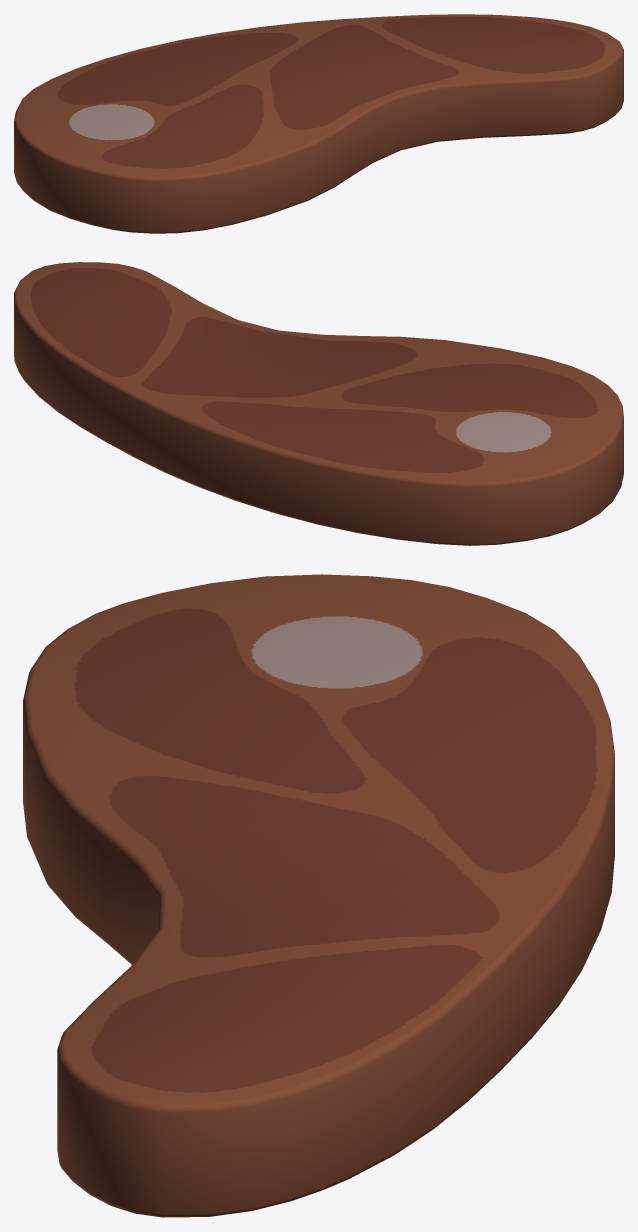
File: Meat_game_ready (1).fbx
The picture shows the model from 3 angles, top to bottom: view 1: azimuth 30°, elevation 25°; view 2: azimuth 150°, elevation 25°; view 3: azimuth 270°, elevation 25°; orthographic projection. The views are drawn at different scales.
Parts seen in each view (by area): view 1: Meat; view 2: Meat; view 3: Meat.
Boxes of the visible parts, x1,y1,x2,y2 form: Meat: (14,14,623,233); Meat: (14,262,623,545); Meat: (23,574,614,1217).
Size of the model in its own units: 480 by 47.4 by 224.
